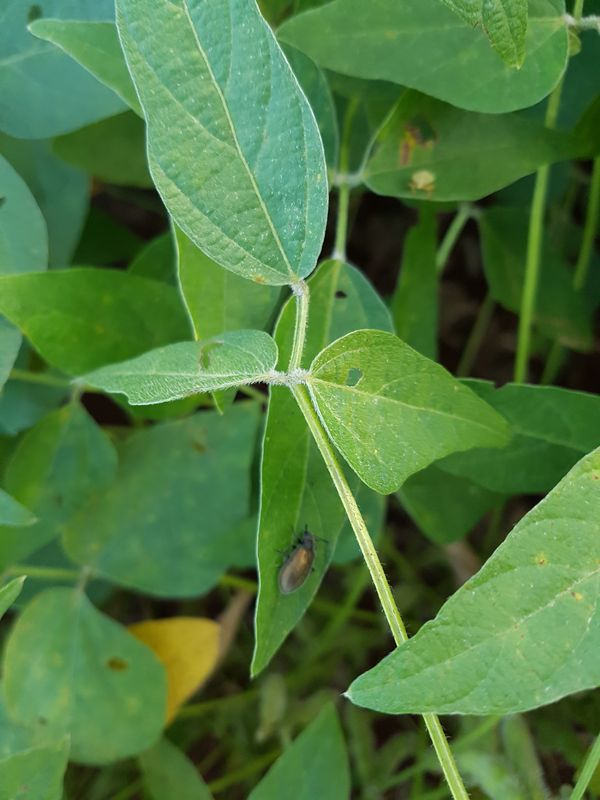Euschistus_heros_ninfa: (400, 163, 445, 203)
Lagria_villosa: (263, 518, 342, 608)
